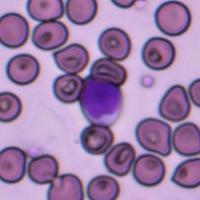L: (80, 78, 123, 127)
